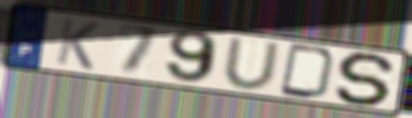7: (116, 21, 161, 78)
9: (165, 29, 224, 87)
D: (277, 41, 340, 101)
K: (53, 15, 102, 72)
S: (333, 51, 401, 108)
U: (221, 37, 283, 93)
